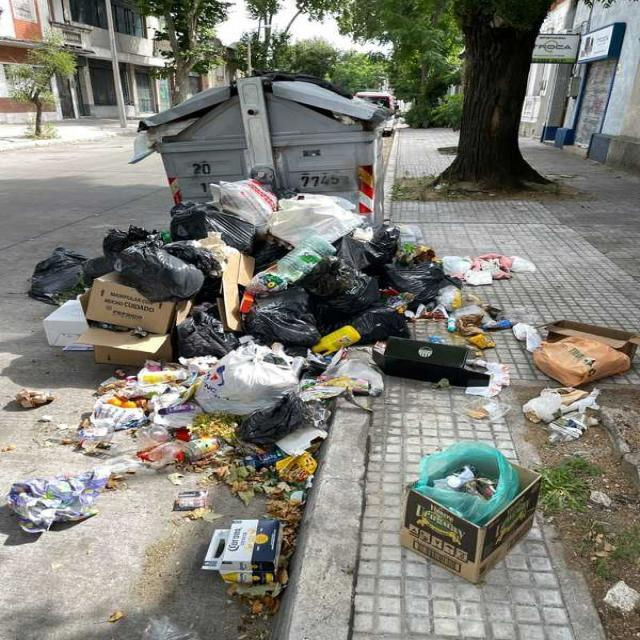high trash: (8, 180, 640, 598), (400, 441, 540, 582)
less trash: (604, 581, 640, 612), (15, 390, 55, 409), (172, 490, 208, 511)
